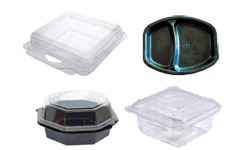PlasticBox: (21, 10, 129, 77), (123, 84, 223, 149)
